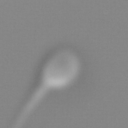normal: (2, 82, 47, 128)
